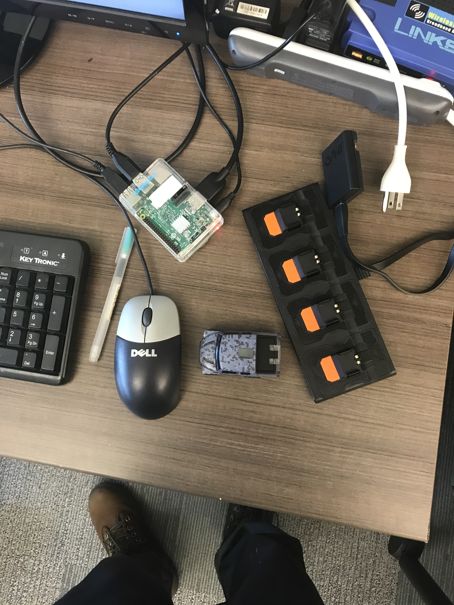MXT: (198, 328, 283, 380)
